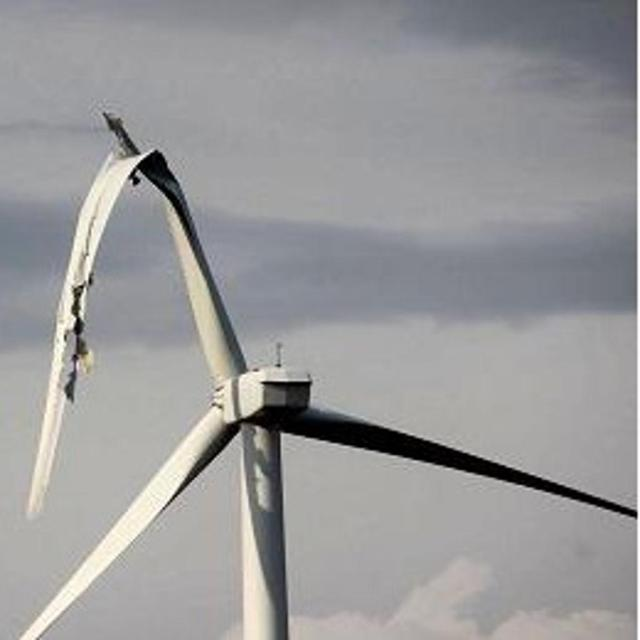crack: (18, 93, 208, 522)
